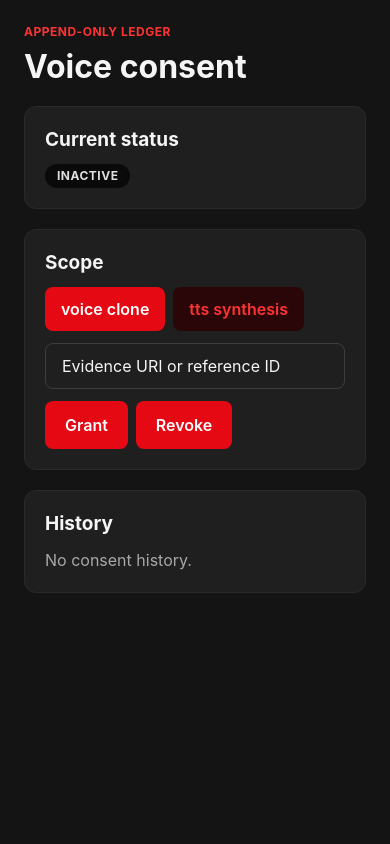
Scenario: compliance screens › EC-4: grant without evidence is rejected before POST
The width and height of the screenshot is (390, 844).
Check: the text "No consent history." is shown, box [45,550,192,570]
Step 1. Click the button with test id "consent-grant" → (86, 425), box [45,401,128,449]
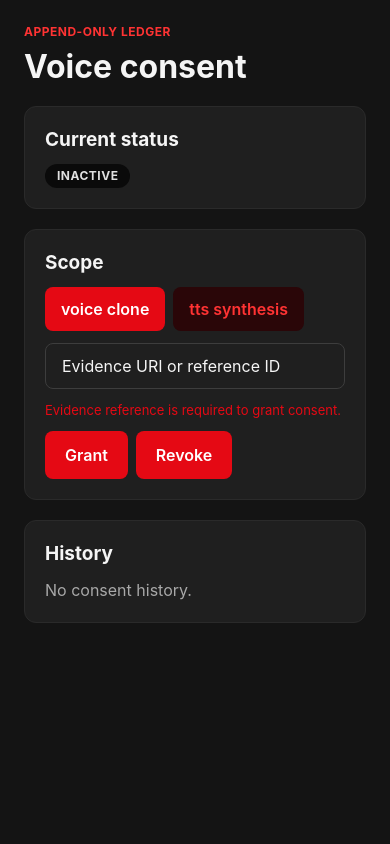
Check: the text "Evidence reference is required to grant consent." is shown, box [45,401,345,419]
